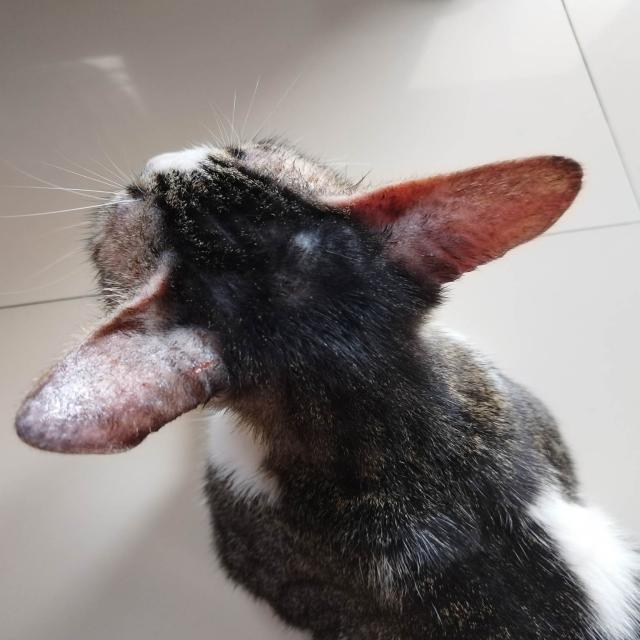Mange: (58, 371, 138, 432), (444, 182, 523, 230), (168, 341, 240, 390)
